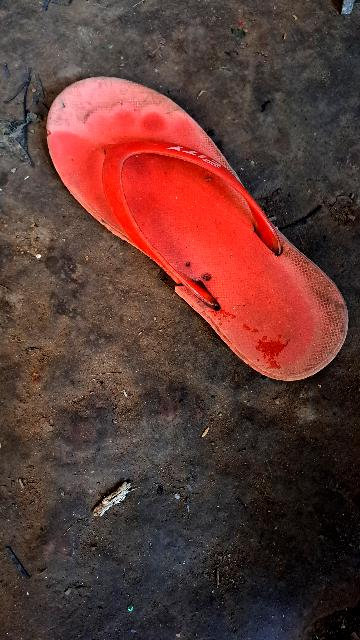sandal: (16, 29, 360, 398)
